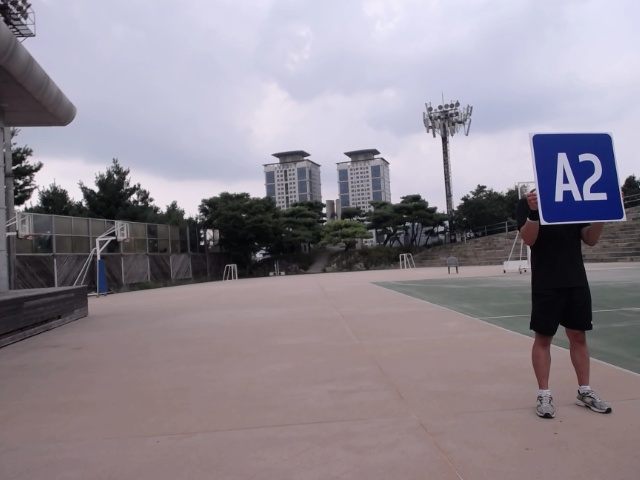delivery_a2: (531, 132, 625, 224)
